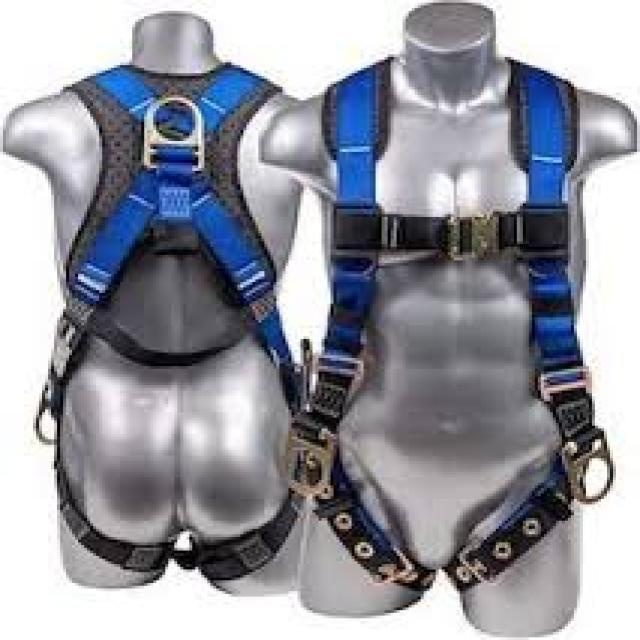Arnes_seguridad: (280, 54, 613, 594), (37, 60, 280, 582)
